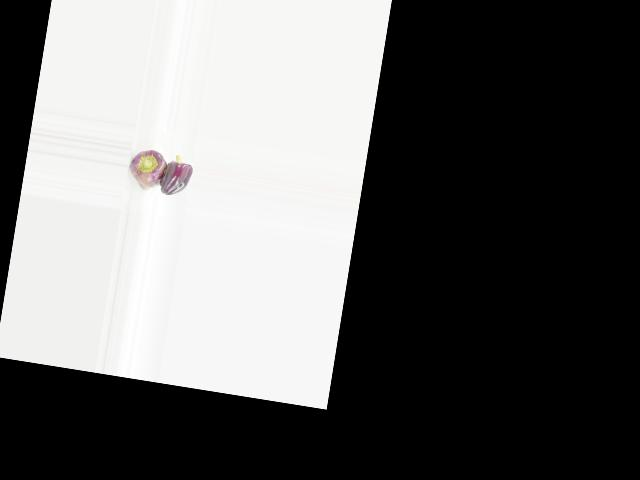bell_pepper: (124, 138, 170, 200)
